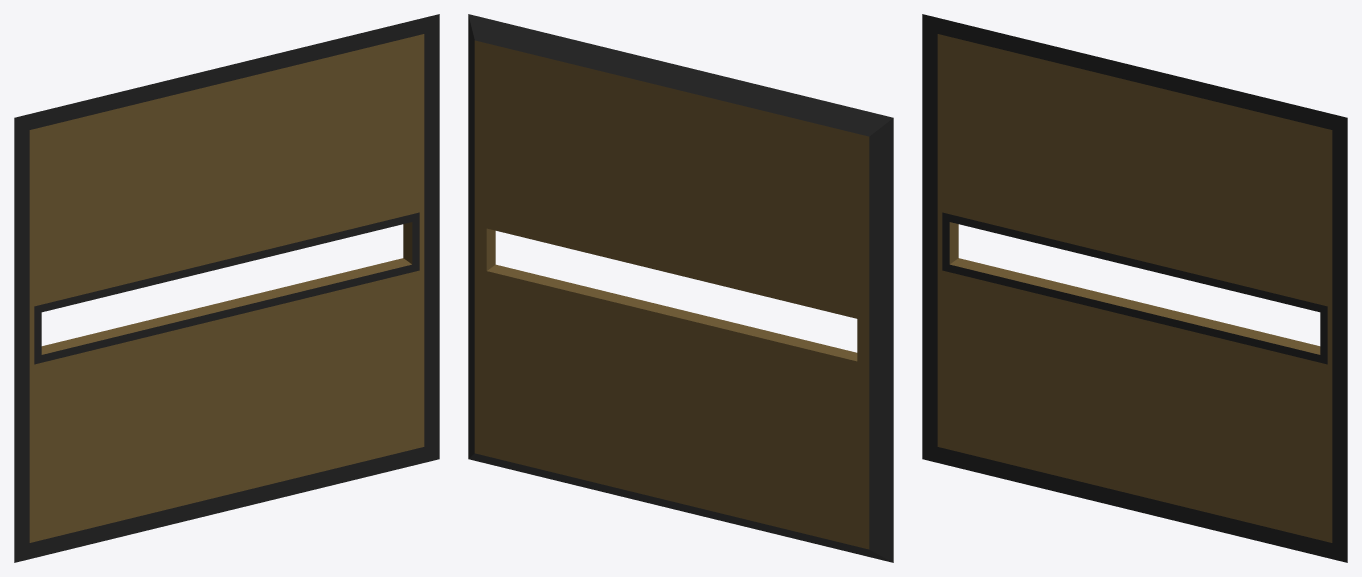
File: lid.obj
3 views of the same model, side by side, from view 1: azimuth 30°, elevation 25°; view 2: azimuth 150°, elevation 25°; view 3: azimuth 330°, elevation 25° (orthographic).
Visible parts, largest first — view 1: Body24, Body23, Body29; view 2: Body24, Body23, Body29; view 3: Body24, Body23, Body29.
Boxes of the visible parts, x1,y1,x2,y2 form: Body24: (29, 34, 424, 542); Body23: (14, 14, 439, 562); Body29: (34, 212, 419, 364); Body24: (474, 40, 869, 549); Body23: (468, 14, 893, 562); Body29: (479, 219, 864, 370); Body24: (937, 34, 1332, 542); Body23: (922, 14, 1347, 562); Body29: (942, 212, 1327, 364).
Size of the model in its own units: 138 by 138 by 5.
